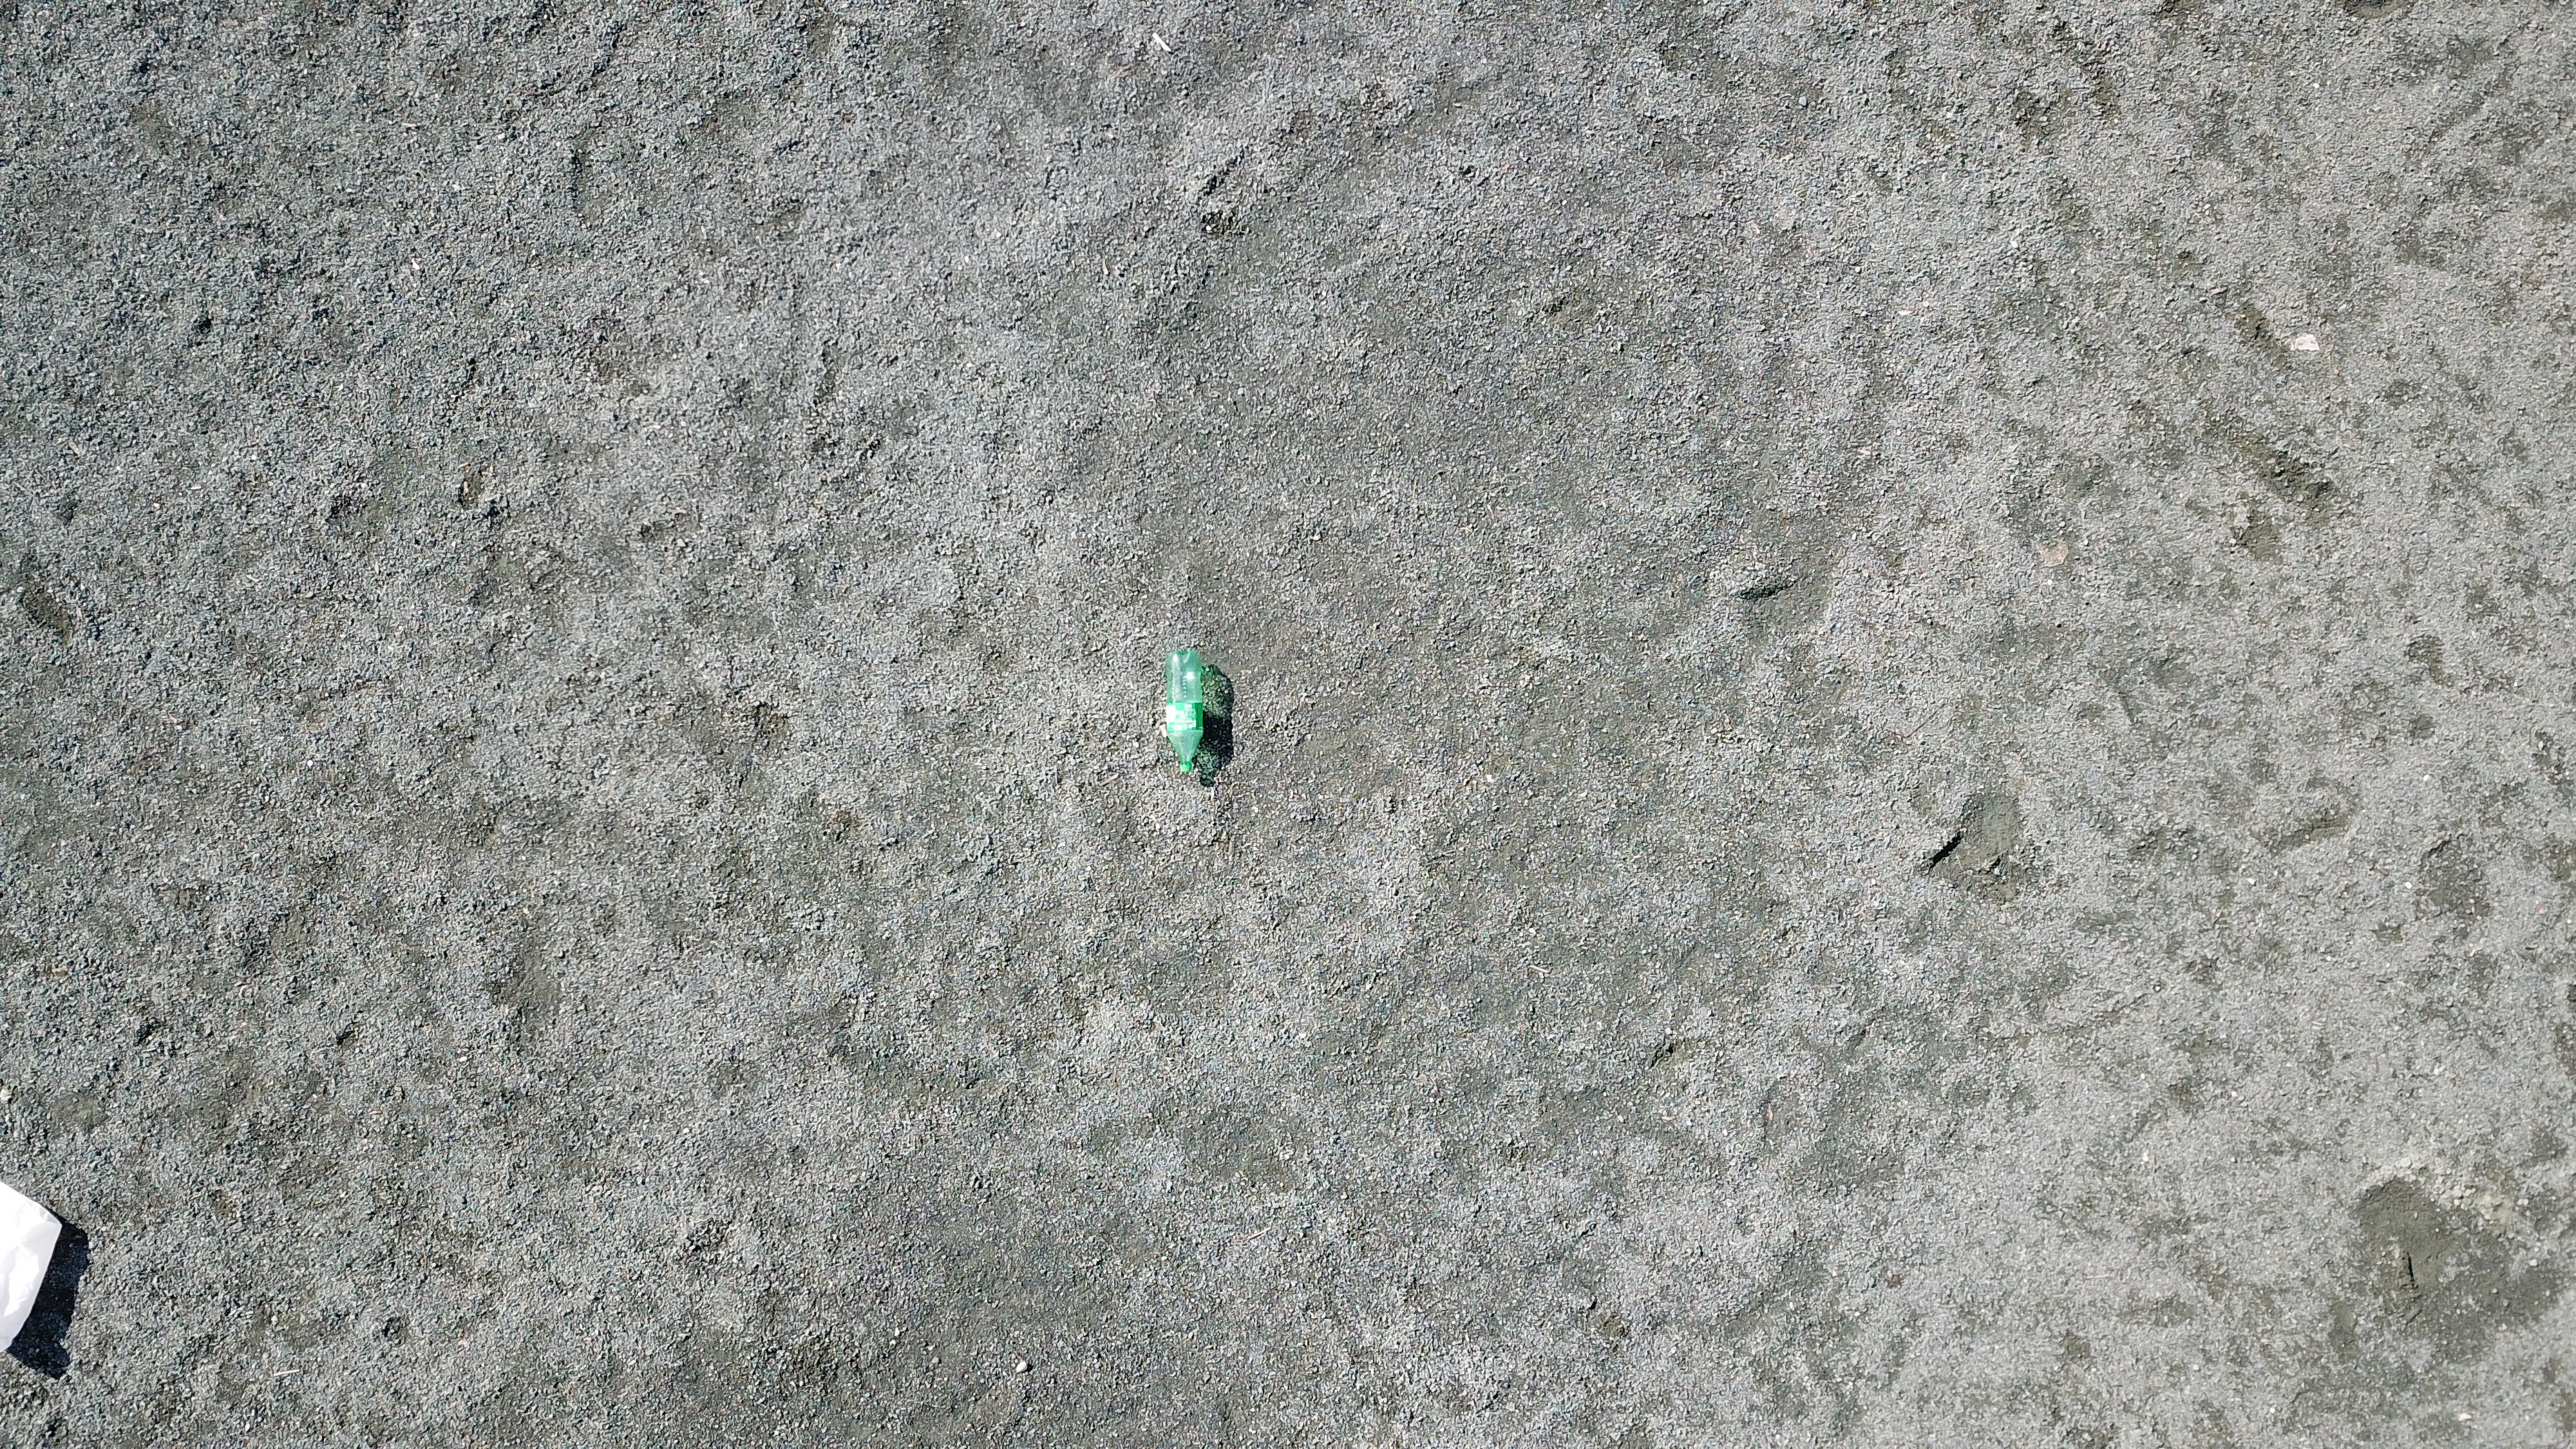Plastic: (0, 1184, 65, 1353)
PlasticBottle: (1162, 646, 1205, 778)
